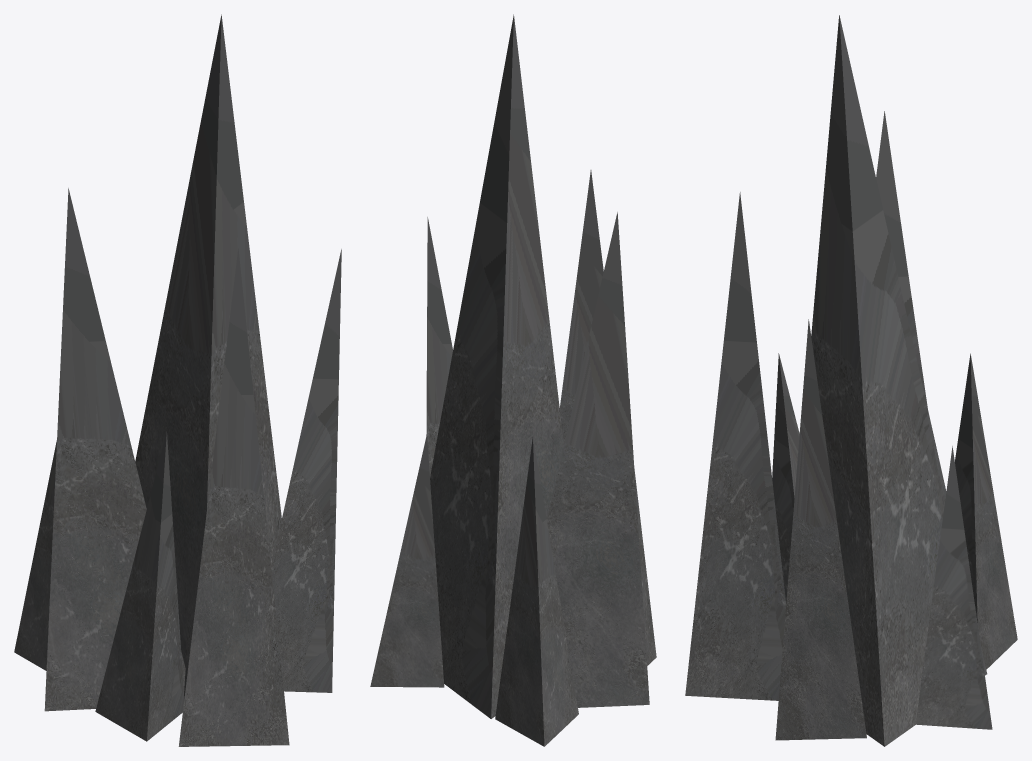
Rendered from Grass.fbx.
The picture shows the model from 3 angles, left to right: view 1: azimuth 30°, elevation 25°; view 2: azimuth 150°, elevation 25°; view 3: azimuth 270°, elevation 25°; orthographic projection. The views are drawn at different scales.
Visible parts, largest first — view 1: pCone1, pCone2, pCone8, pCone6, pCone5, pCone3; view 2: pCone1, pCone2, pCone3, pCone4, pCone8, pCone6, pCone5; view 3: pCone1, pCone8, pCone6, pCone4, pCone3, pCone5, pCone2.
Boxes of the visible parts, x1,y1,x2,y2 form: pCone1: [135, 14, 281, 698]; pCone2: [44, 188, 185, 711]; pCone8: [178, 248, 289, 746]; pCone6: [271, 249, 341, 692]; pCone5: [95, 431, 184, 741]; pCone3: [14, 440, 56, 670]; pCone1: [430, 14, 563, 718]; pCone2: [547, 212, 649, 707]; pCone3: [495, 437, 578, 746]; pCone4: [370, 434, 444, 687]; pCone8: [559, 170, 603, 444]; pCone6: [426, 217, 452, 476]; pCone5: [634, 469, 656, 665]; pCone1: [811, 15, 987, 746]; pCone8: [685, 192, 786, 700]; pCone6: [775, 319, 866, 740]; pCone4: [915, 446, 992, 729]; pCone3: [955, 353, 1017, 669]; pCone5: [772, 353, 799, 603]; pCone2: [876, 111, 927, 406].
Bounding box in the file's own units: 2.04 × 4.97 × 2.18.
